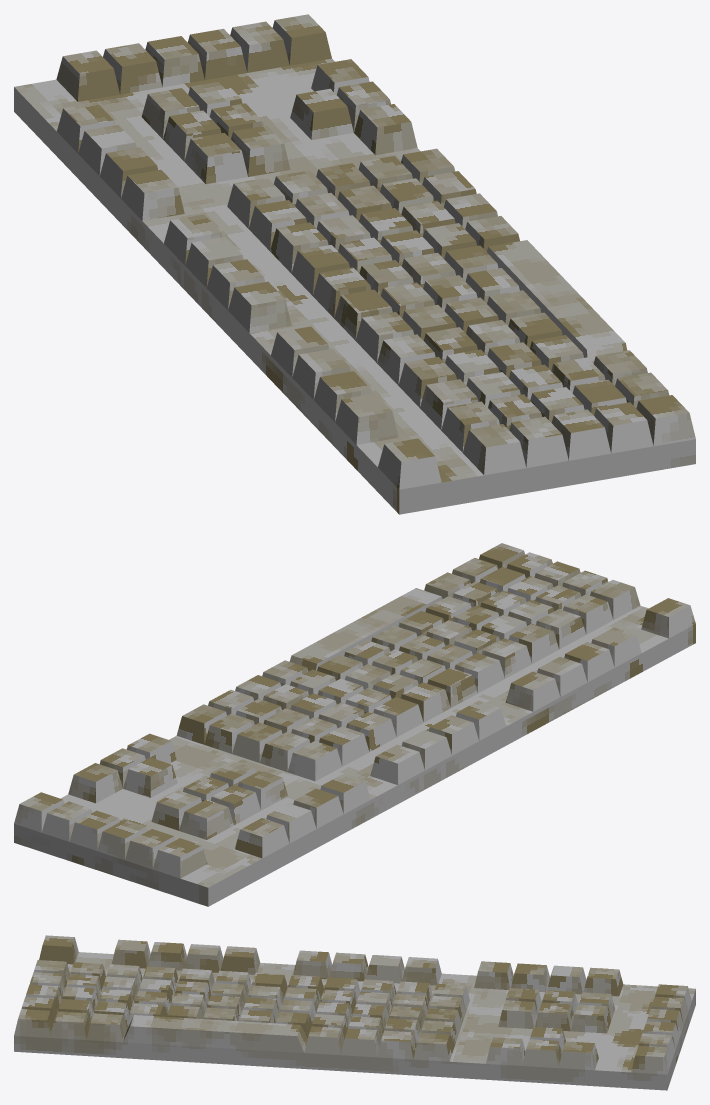
The model's file is keyboard.glb.
3 views of the same model, one above another, from view 1: azimuth 30°, elevation 25°; view 2: azimuth 150°, elevation 25°; view 3: azimuth 270°, elevation 25° (orthographic). The views are drawn at different scales.
Parts seen in each view (by area): view 1: Keyboard; view 2: Keyboard; view 3: Keyboard.
Part boxes in pixels (x1,y1,x2,y2): Keyboard: [14, 14, 695, 514]; Keyboard: [14, 543, 695, 906]; Keyboard: [14, 935, 695, 1090].
Bounding box in the file's own units: 0.2684 × 0.032 × 0.6201.
Materials: 1 (1 with a texture image).
